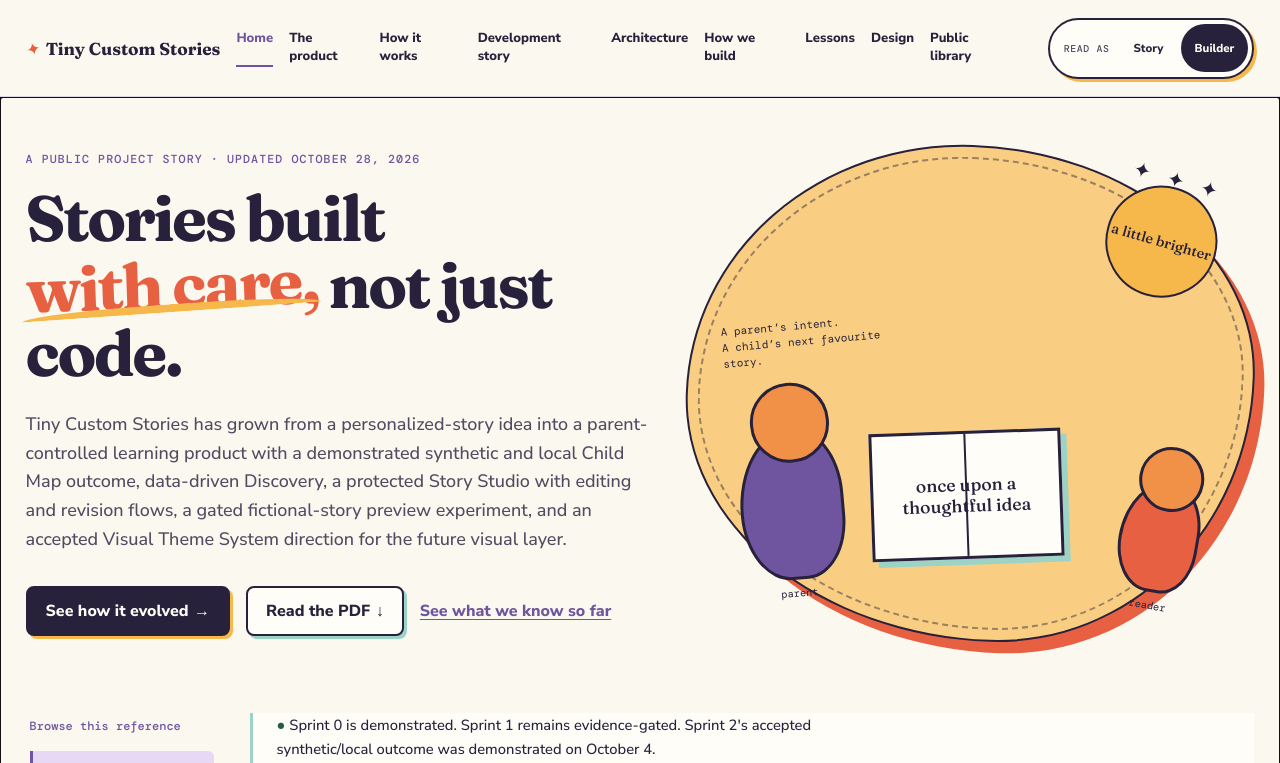
Test case: project story site › shows the demonstrated Sprint 2 local outcome without implying real-family release
Click the link "Development story" at (519, 47), box [478,29,561,65]
(page scrolled)
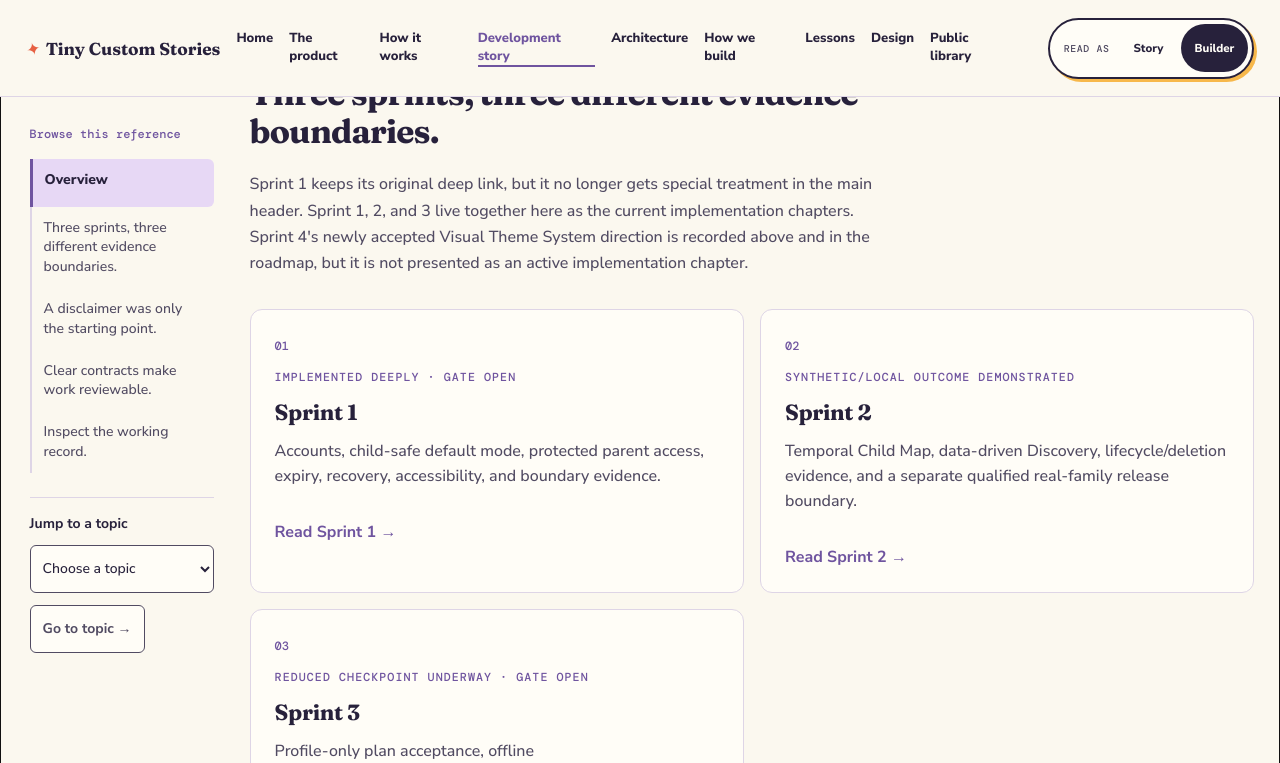
Click the link named "Read Sprint 2" at (1007, 451), box [760,309,1254,593]
(page scrolled)
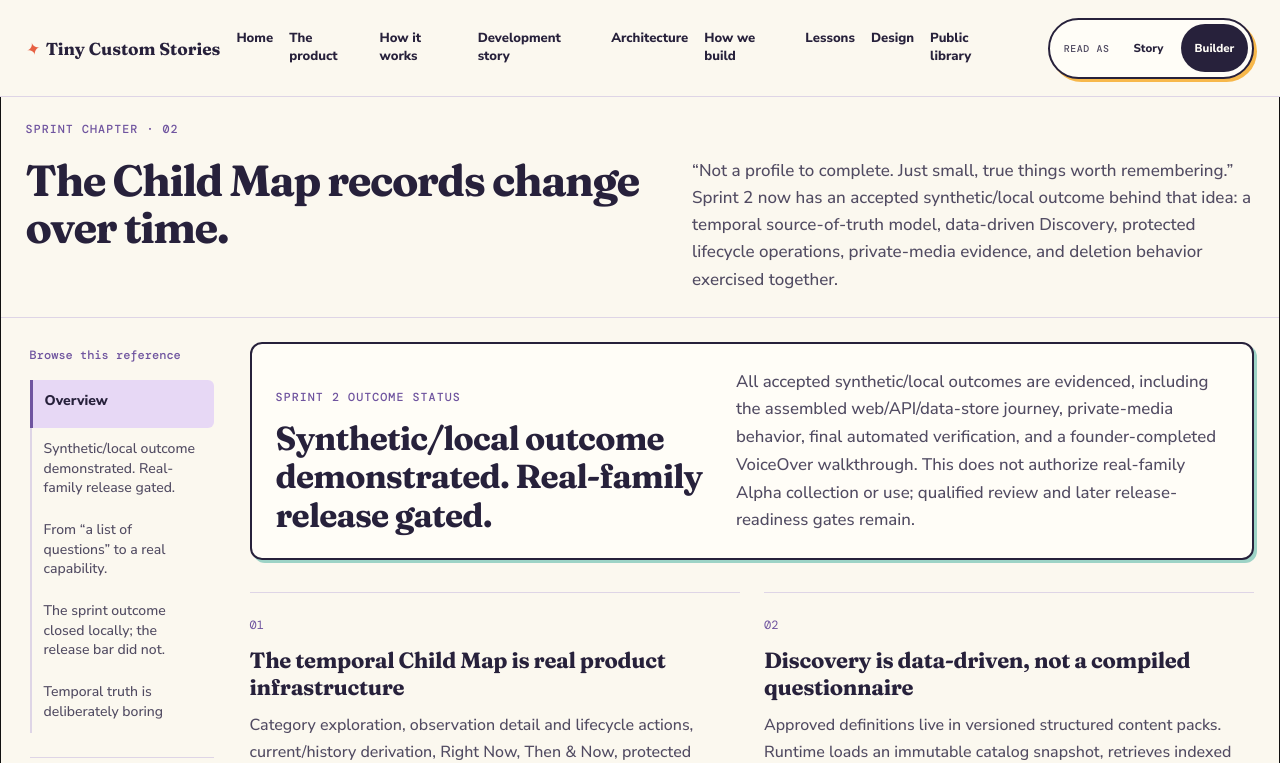
Result: the heading "Synthetic/local outcome demonstrated. Real-family release gated" is shown at [276,419,704,534]
Result: the text "does not authorize real-family Alpha collection or use" is shown at [736,370,1216,531]
